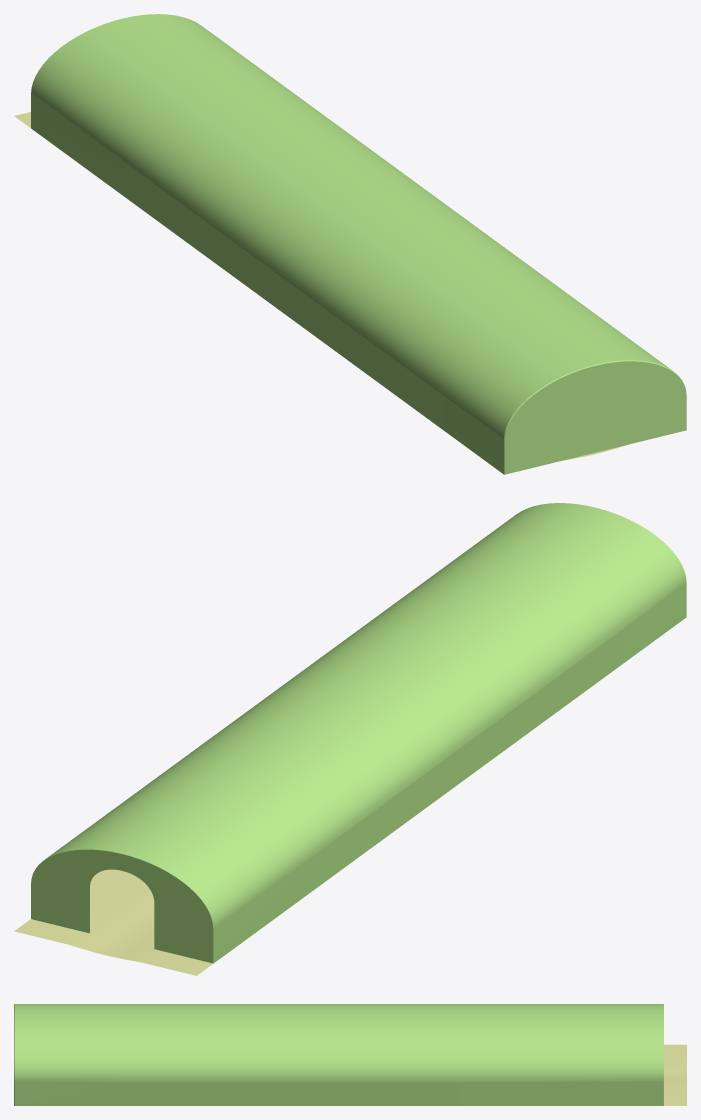
Rendered from kellerRaum.fbx.
The picture shows the model from 3 angles, top to bottom: view 1: azimuth 30°, elevation 25°; view 2: azimuth 150°, elevation 25°; view 3: azimuth 270°, elevation 25°; orthographic projection. The views are drawn at different scales.
Visible parts, largest first — view 1: kellerRaum; view 2: kellerRaum; view 3: kellerRaum.
Boxes of the visible parts, left/top/right/bottom form: kellerRaum: left=14, top=14, right=686, bottom=474; kellerRaum: left=14, top=503, right=686, bottom=975; kellerRaum: left=14, top=1004, right=686, bottom=1105.
Size of the model in its own units: 655 by 306 by 3045.
